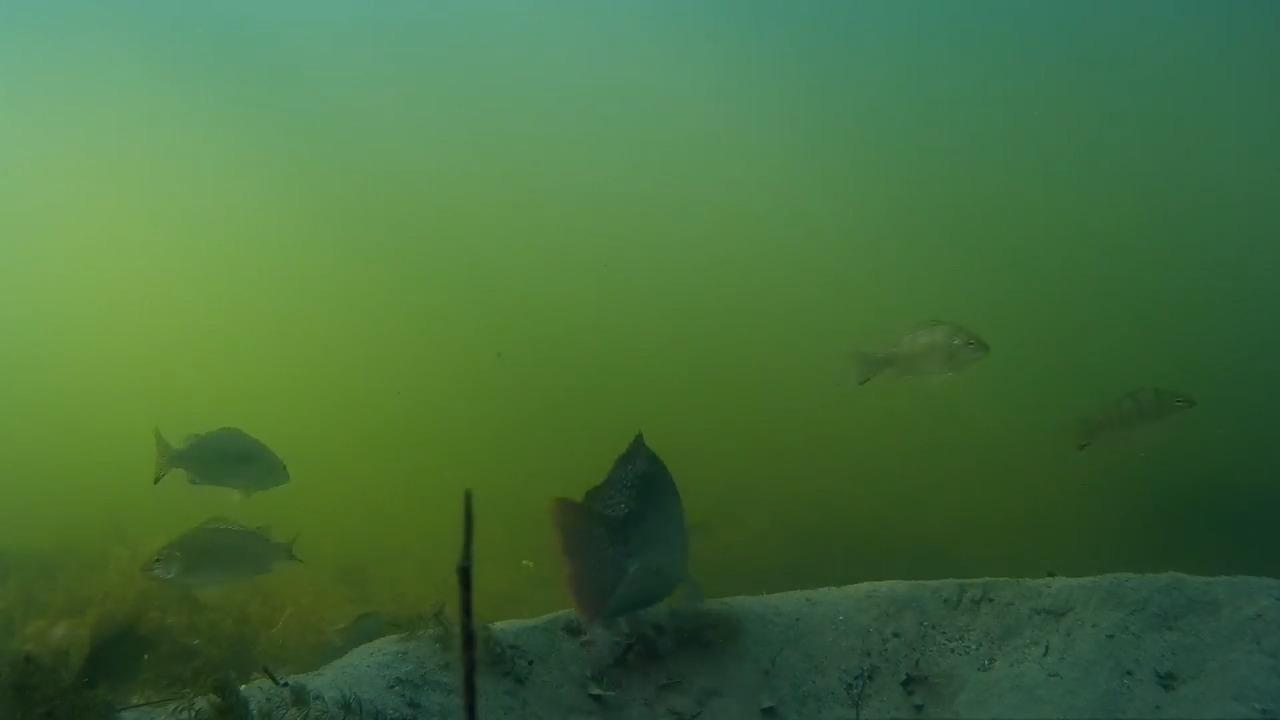Tilapia: (554, 427, 703, 633), (130, 516, 321, 594), (151, 419, 292, 502), (850, 317, 994, 397), (1071, 380, 1204, 456)
